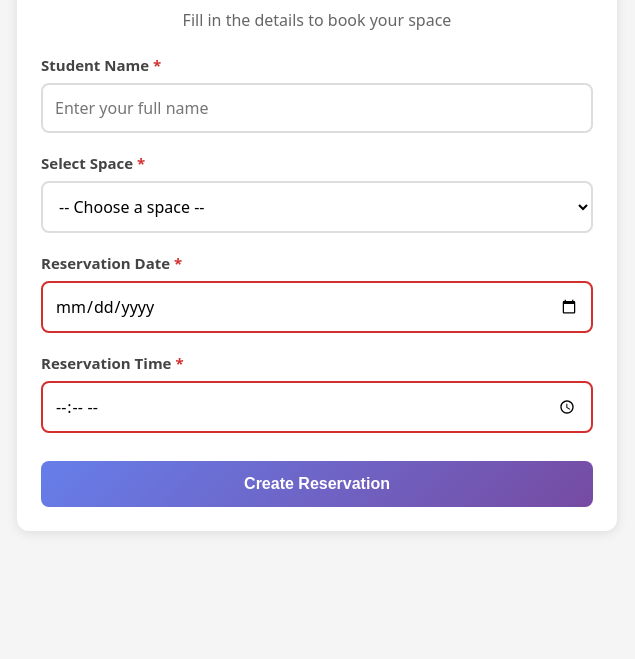
Test: ReservationForm Component › should display space image preview when a space is selected
Expected: the text "Selected Space:" is not shown
# Select a space
Step 1. Select "Classrooms (Education) - Capacity: 30" in the dropdown labelled "Select Space *" → (317, 207), box [41,181,593,233]
(page scrolled)
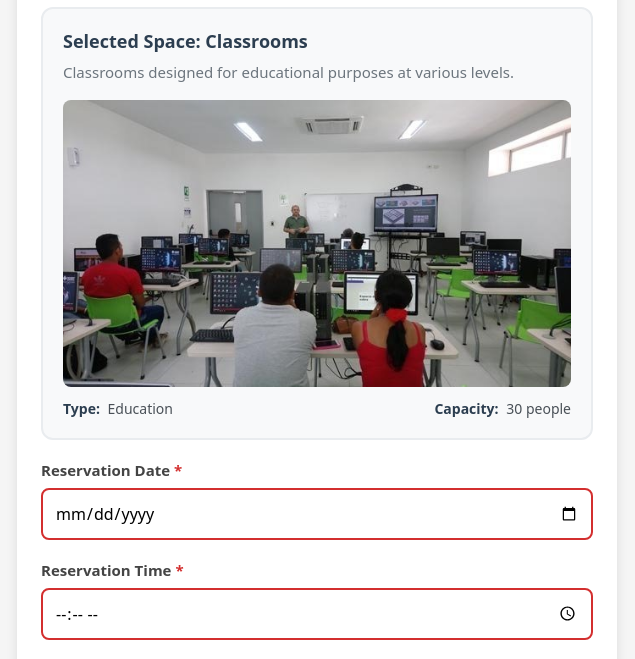
Expected: the heading "Selected Space: Classrooms" is shown, [63,29,308,53]
Expected: the picture with alt text "Classrooms" is shown, [63,100,571,386]
